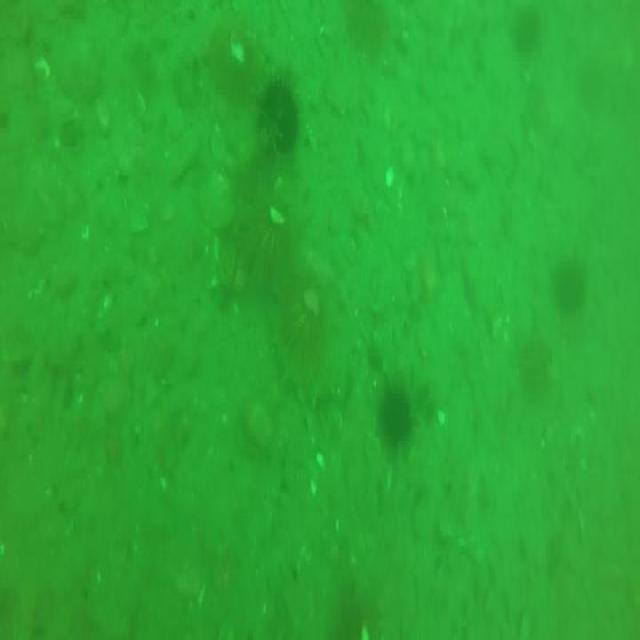echinus: (240, 185, 301, 295), (281, 272, 337, 365), (256, 73, 301, 158), (550, 264, 590, 316), (350, 0, 390, 51), (514, 11, 548, 62), (379, 394, 413, 439)
scallop: (34, 58, 50, 79), (316, 452, 327, 472)
